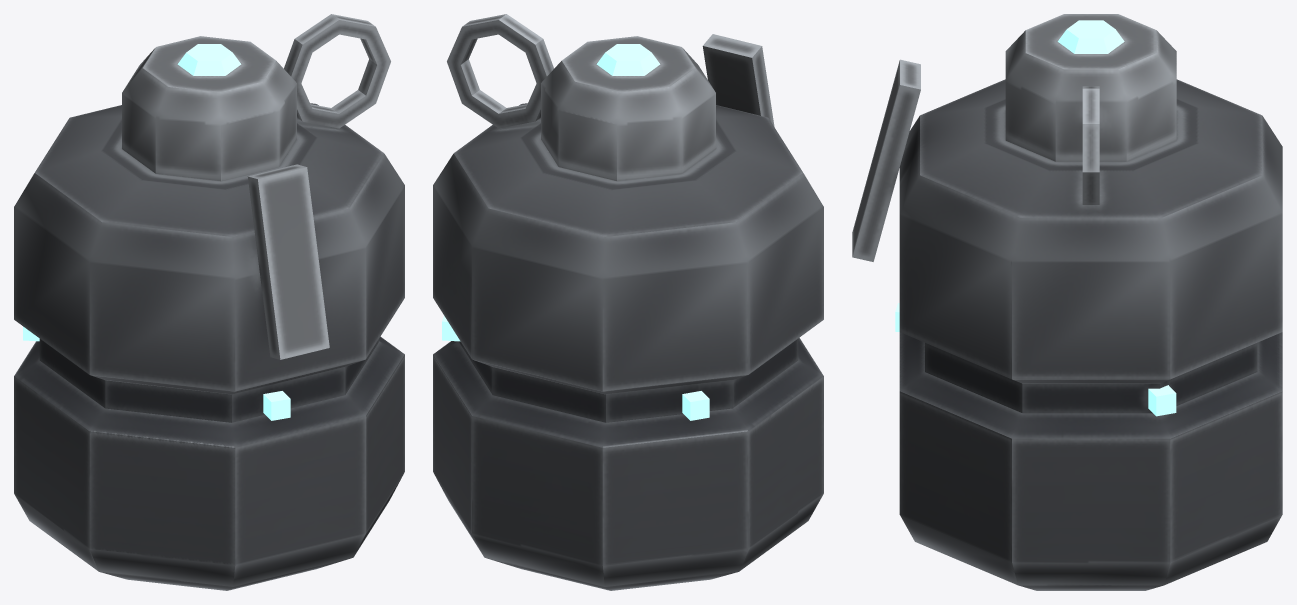
File: grenade.glb
The picture shows the model from 3 angles, left to right: view 1: azimuth 30°, elevation 25°; view 2: azimuth 150°, elevation 25°; view 3: azimuth 270°, elevation 25°; orthographic projection. The views are drawn at different scales.
Parts seen in each view (by area): view 1: grenade; view 2: grenade; view 3: grenade.
Part boxes in pixels (x1,y1,x2,y2): grenade: [14, 14, 404, 590]; grenade: [433, 14, 823, 590]; grenade: [852, 14, 1282, 590].
Bounding box in the file's own units: 0.0747 × 0.1036 × 0.0789.
Materials: 1 (1 with a texture image).
